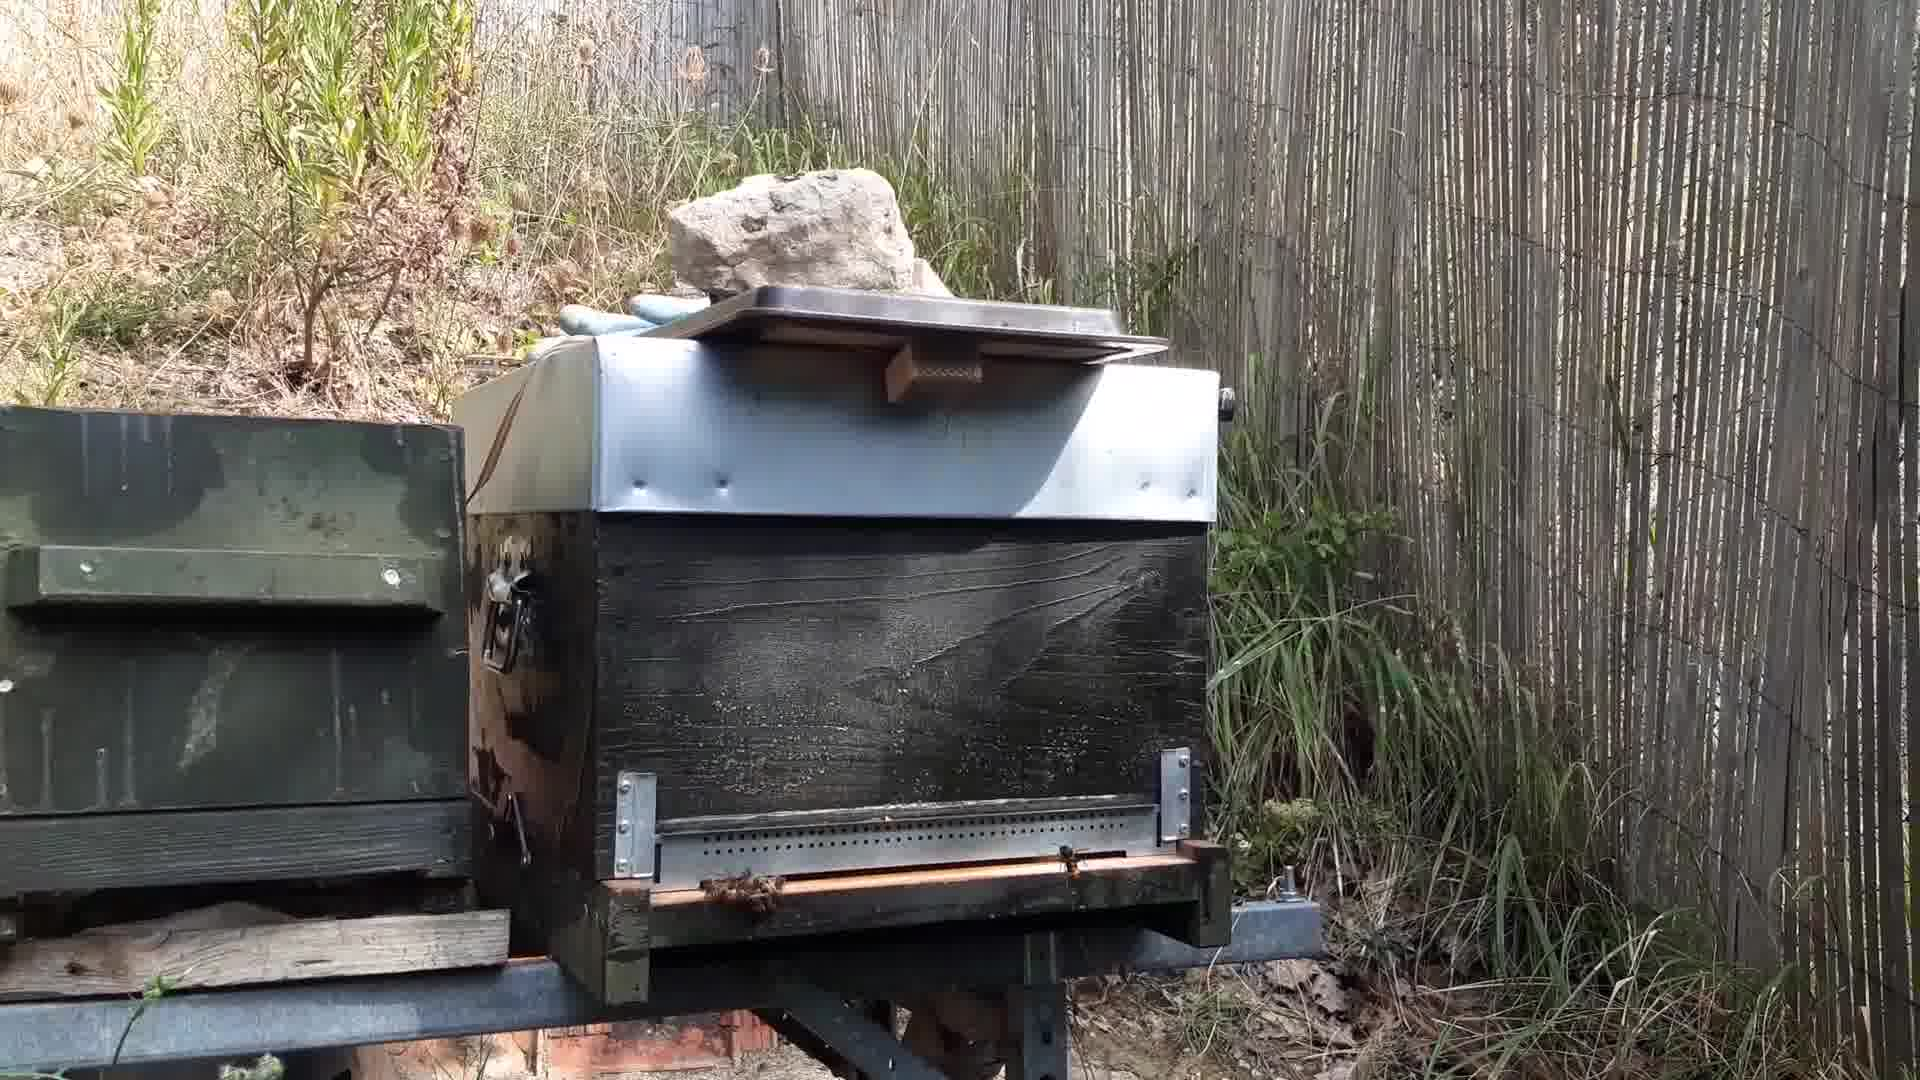bee: (698, 868, 789, 924)
hornet: (1054, 837, 1087, 887)
